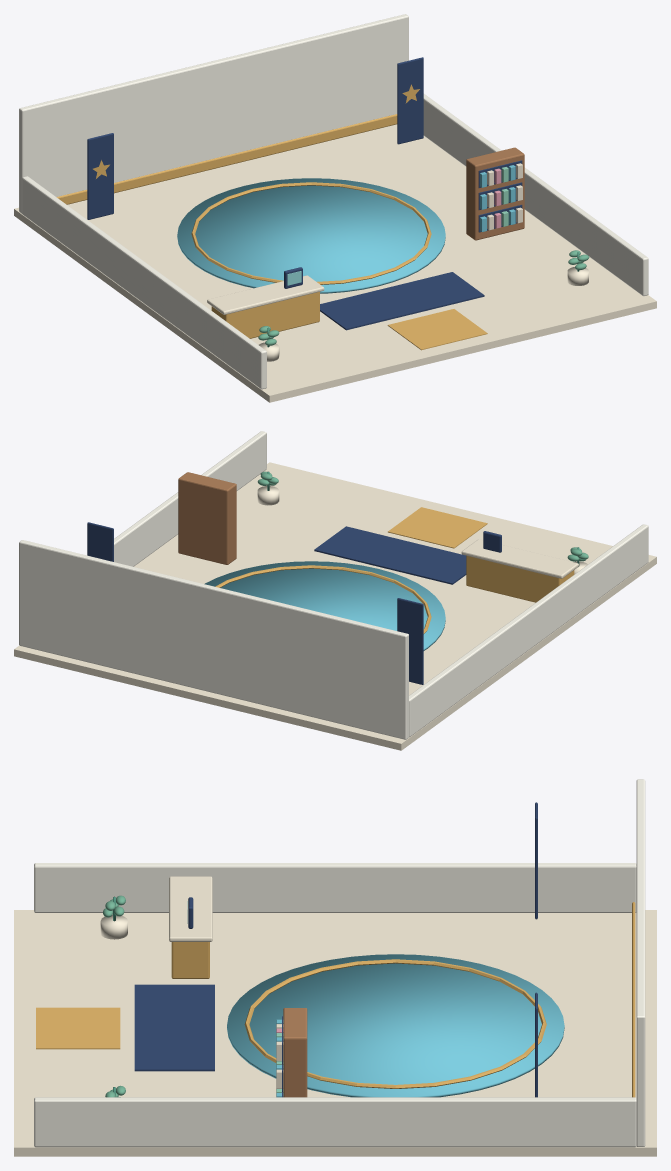
The model's file is gym_light-interior.glb.
3 renders of one model, top to bottom at view 1: azimuth 30°, elevation 25°; view 2: azimuth 150°, elevation 25°; view 3: azimuth 270°, elevation 25°, orthographic. The views are drawn at different scales.
Visible parts, largest first — view 1: gym_light · furnished cutaway interior; view 2: gym_light · furnished cutaway interior; view 3: gym_light · furnished cutaway interior.
Boxes of the visible parts, x1=… form: gym_light · furnished cutaway interior: x1=14, y1=14, x2=656, y2=402; gym_light · furnished cutaway interior: x1=14, y1=431, x2=656, y2=750; gym_light · furnished cutaway interior: x1=14, y1=779, x2=656, y2=1156.
Size of the model in its own units: 14.02 by 3.84 by 16.
